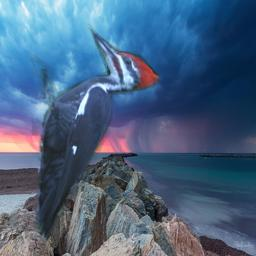Woodpecker: (30, 23, 159, 249)
